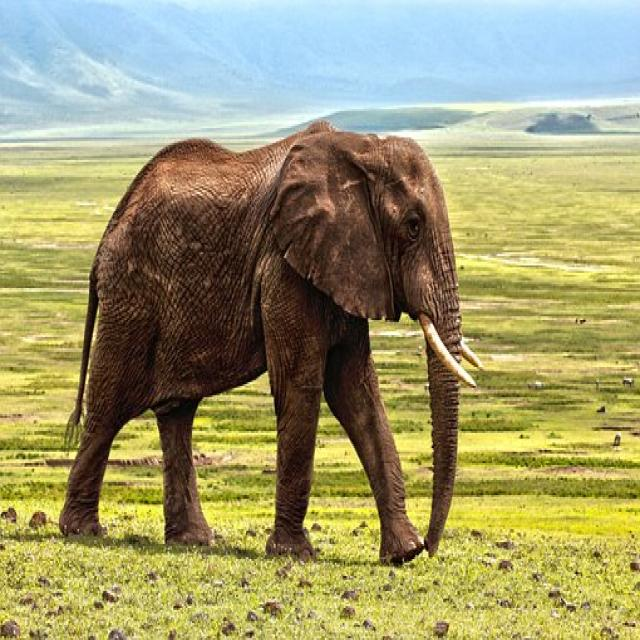Elephant: (59, 103, 497, 622)
